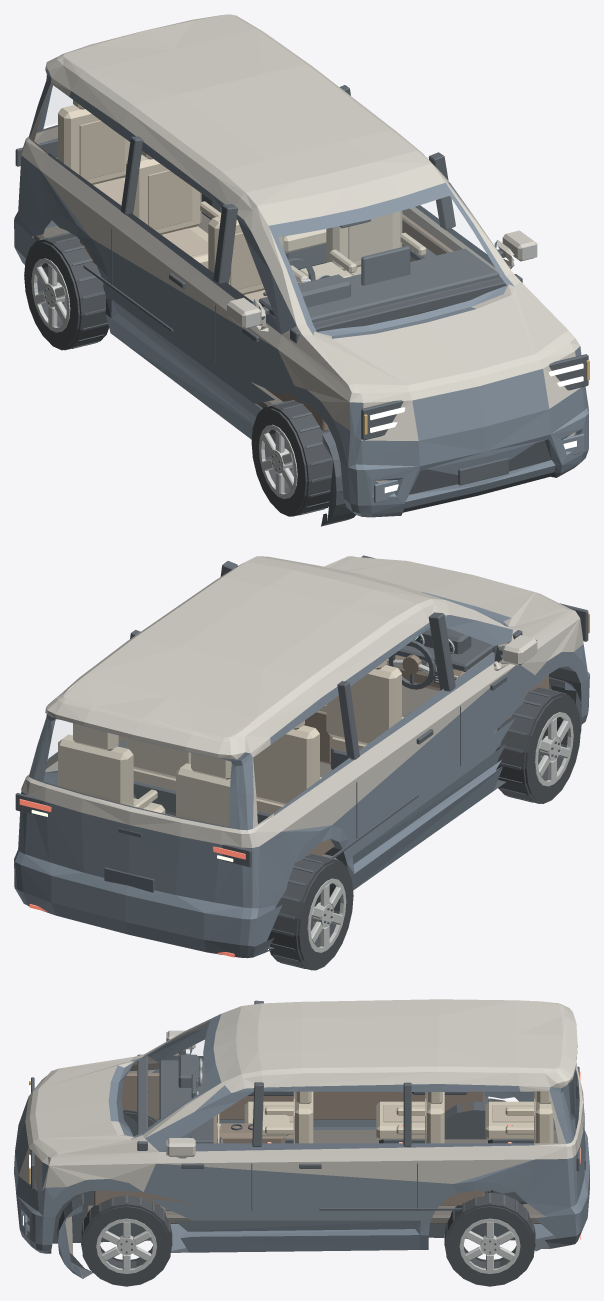
File: OriginalMPV.glb
The picture shows the model from 3 angles, top to bottom: view 1: azimuth 30°, elevation 25°; view 2: azimuth 150°, elevation 25°; view 3: azimuth 270°, elevation 25°; orthographic projection. The views are drawn at different scales.
Visible parts, largest first — view 1: Body_SlateBlue, Roof_WarmIvory, Body_WarmIvory, Body_CharcoalTrim, Interior_CharcoalTrim, Interior_SeatInsert, Interior_SandUpholstery, WheelRearLeft_TireRubber, WheelFrontLeft_TireRubber, WheelFrontLeft_MatteAlloy, WheelRearLeft_MatteAlloy, Interior_WalnutDashboard (+3 smaller); view 2: Body_SlateBlue, Roof_WarmIvory, Body_WarmIvory, Interior_SandUpholstery, Body_CharcoalTrim, WheelFrontLeft_TireRubber, WheelRearLeft_TireRubber, Interior_CharcoalTrim, WheelRearLeft_MatteAlloy, WheelFrontLeft_MatteAlloy, Interior_WalnutDashboard, Interior_CabinFloor (+4 smaller); view 3: Body_SlateBlue, Roof_WarmIvory, Body_WarmIvory, Body_CharcoalTrim, Interior_SandUpholstery, Interior_WalnutDashboard, WheelRearRight_TireRubber, WheelFrontRight_TireRubber, Interior_CharcoalTrim, Interior_CabinFloor, WheelFrontRight_MatteAlloy, WheelRearRight_MatteAlloy (+1 smaller).
Part boxes in pixels (x1,y1,x2,y2): Body_SlateBlue: [14, 69, 588, 517]; Roof_WarmIvory: [45, 14, 446, 226]; Body_WarmIvory: [21, 78, 581, 482]; Body_CharcoalTrim: [15, 85, 588, 526]; Interior_CharcoalTrim: [201, 194, 499, 323]; Interior_SeatInsert: [79, 120, 392, 301]; Interior_SandUpholstery: [58, 100, 426, 294]; WheelRearLeft_TireRubber: [24, 233, 108, 350]; WheelFrontLeft_TireRubber: [251, 401, 333, 516]; WheelFrontLeft_MatteAlloy: [259, 424, 297, 498]; WheelRearLeft_MatteAlloy: [31, 258, 70, 332]; Interior_WalnutDashboard: [80, 214, 453, 431]; Body_SlateBlue: [14, 591, 589, 958]; Roof_WarmIvory: [45, 556, 446, 759]; Body_WarmIvory: [21, 556, 583, 847]; Interior_SandUpholstery: [58, 639, 457, 826]; Body_CharcoalTrim: [15, 555, 588, 951]; WheelFrontLeft_TireRubber: [495, 688, 580, 803]; WheelRearLeft_TireRubber: [267, 854, 353, 970]; Interior_CharcoalTrim: [117, 628, 494, 823]; WheelRearLeft_MatteAlloy: [307, 878, 346, 952]; WheelFrontLeft_MatteAlloy: [534, 712, 573, 786]; Interior_WalnutDashboard: [118, 652, 548, 855]; Interior_CabinFloor: [165, 685, 501, 859]; Body_SlateBlue: [14, 1014, 589, 1278]; Roof_WarmIvory: [213, 999, 577, 1087]; Body_WarmIvory: [18, 1019, 584, 1278]; Body_CharcoalTrim: [31, 1000, 585, 1278]; Interior_SandUpholstery: [202, 1060, 553, 1143]; Interior_WalnutDashboard: [94, 1073, 484, 1205]; WheelRearRight_TireRubber: [444, 1192, 535, 1286]; WheelFrontRight_TireRubber: [81, 1195, 171, 1286]; Interior_CharcoalTrim: [159, 1054, 535, 1210]; Interior_CabinFloor: [86, 1130, 558, 1223]; WheelFrontRight_MatteAlloy: [96, 1218, 157, 1273]; WheelRearRight_MatteAlloy: [459, 1218, 520, 1273].
Size of the model in its own units: 2.55 by 2.1 by 5.39.
